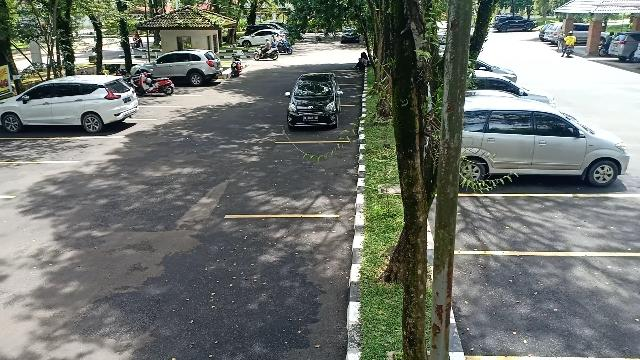empty: (455, 248, 640, 359), (462, 192, 640, 255), (254, 140, 356, 218)
occupied: (460, 112, 634, 195), (0, 88, 140, 140), (276, 87, 354, 143)
